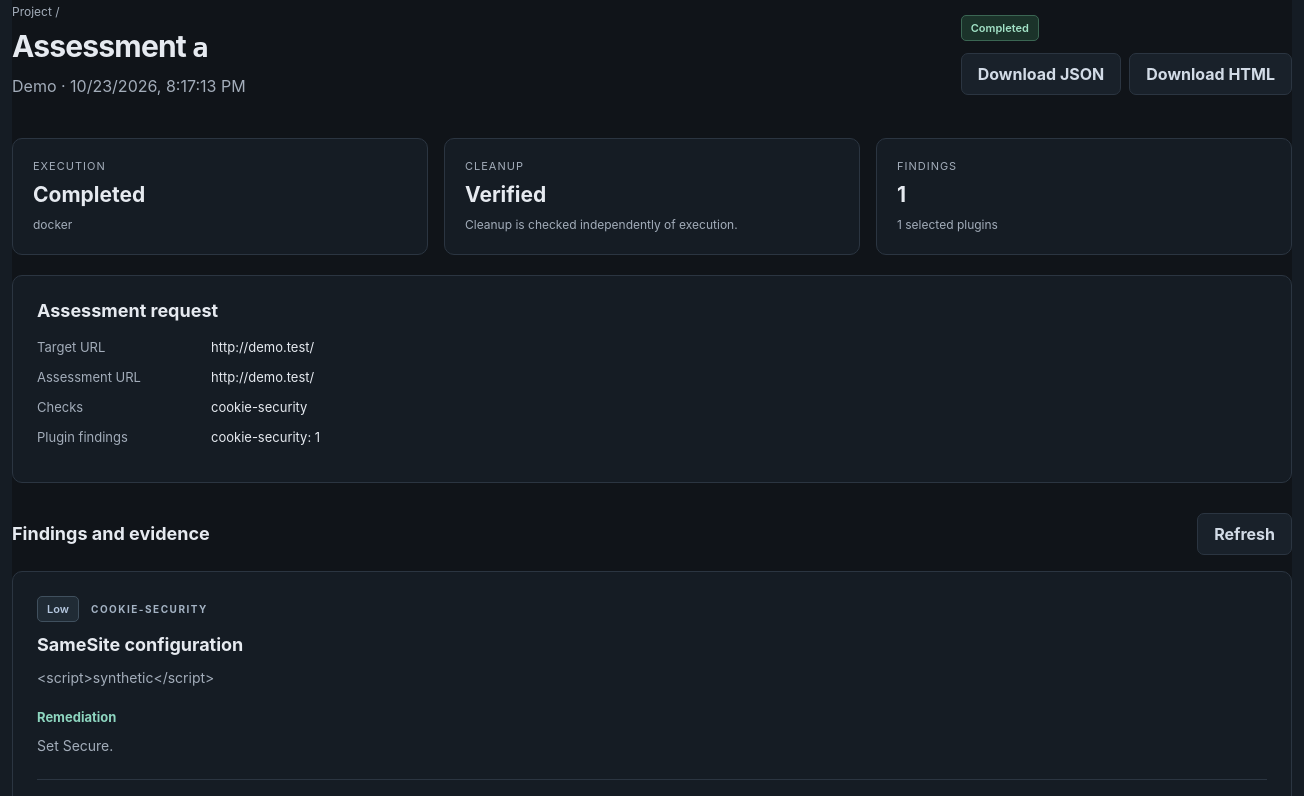
Test: shows HTML rendering failures without downloading and allows a successful retry
Click the button "Download HTML" at (1211, 74), box [1129, 53, 1292, 95]
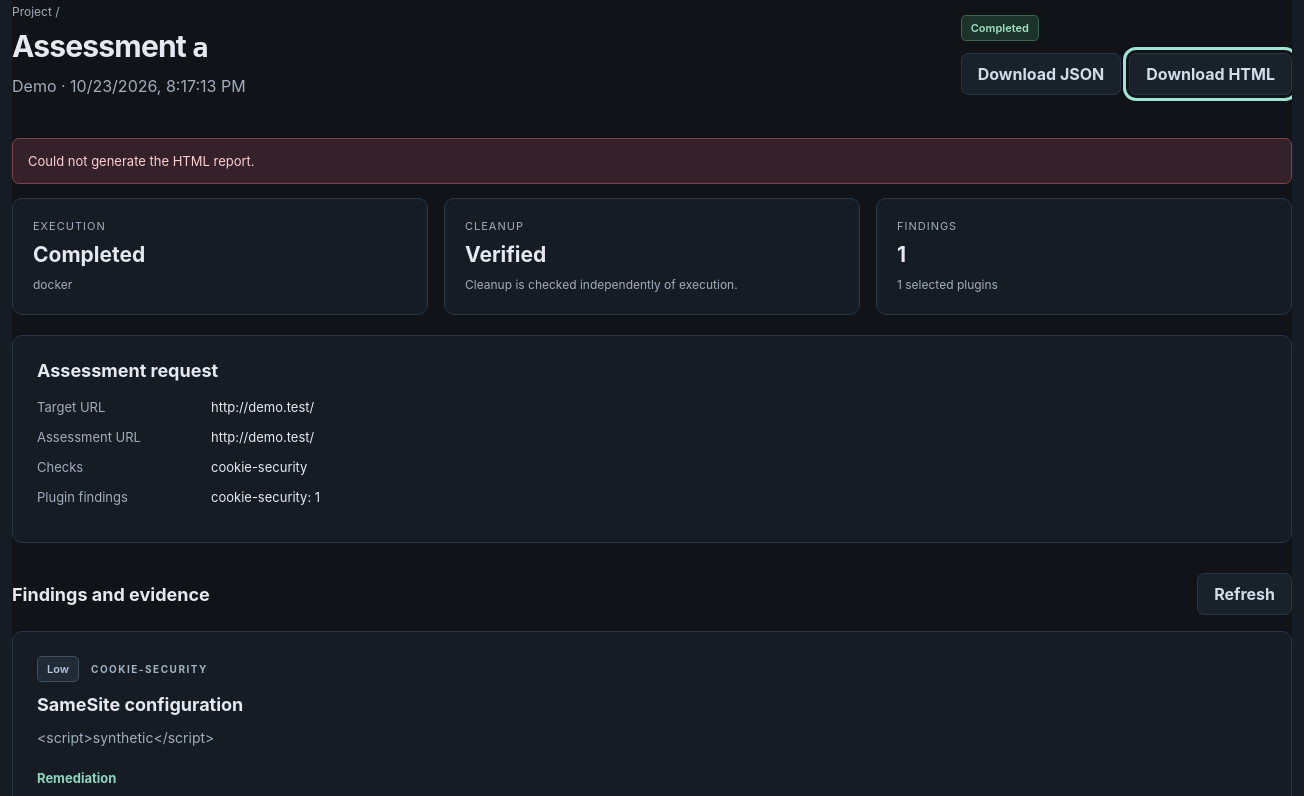
expect the button "Download JSON" is enabled: met, box [961, 53, 1121, 95]
expect the message reads "Could not generate the HTML report.": met, box [28, 153, 255, 169]
Click the button "Download HTML" at (1211, 74), box [1129, 53, 1292, 95]
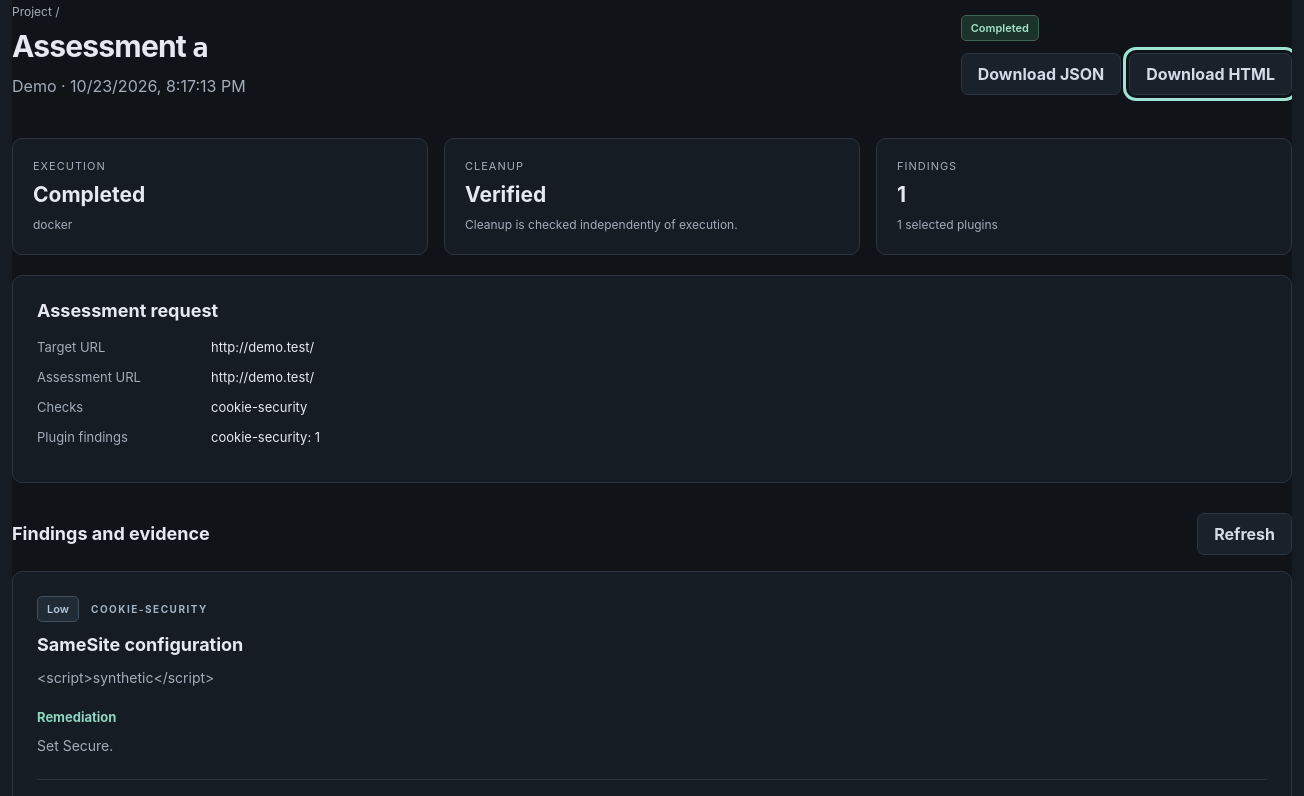
expect the message "Could not generate the HTML report." is gone: met
